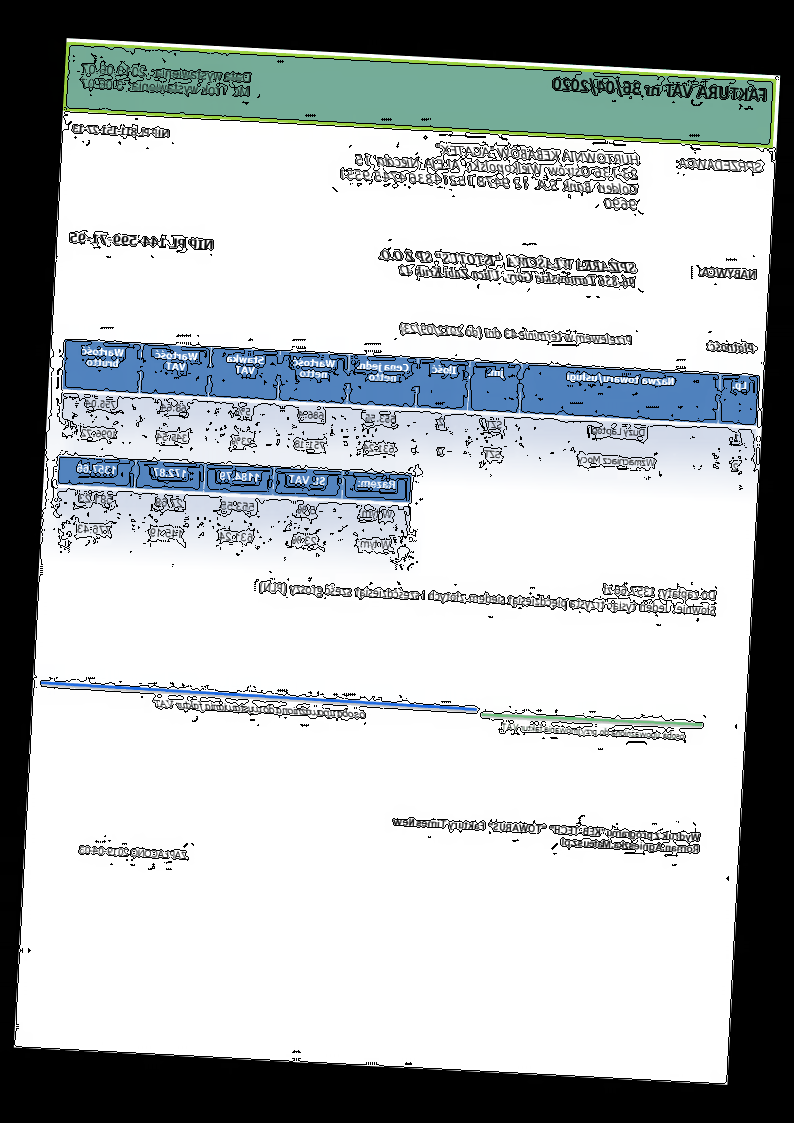Table: (58, 337, 761, 488), (54, 456, 413, 565)
TextBox: (257, 564, 719, 623), (337, 135, 643, 215), (390, 814, 702, 856), (376, 245, 639, 291), (77, 60, 255, 102), (550, 73, 770, 106), (399, 320, 636, 348), (151, 695, 369, 723), (499, 721, 686, 742), (69, 230, 217, 252), (77, 842, 190, 863), (675, 152, 765, 175), (71, 121, 173, 140), (696, 264, 759, 282), (704, 337, 757, 356)
